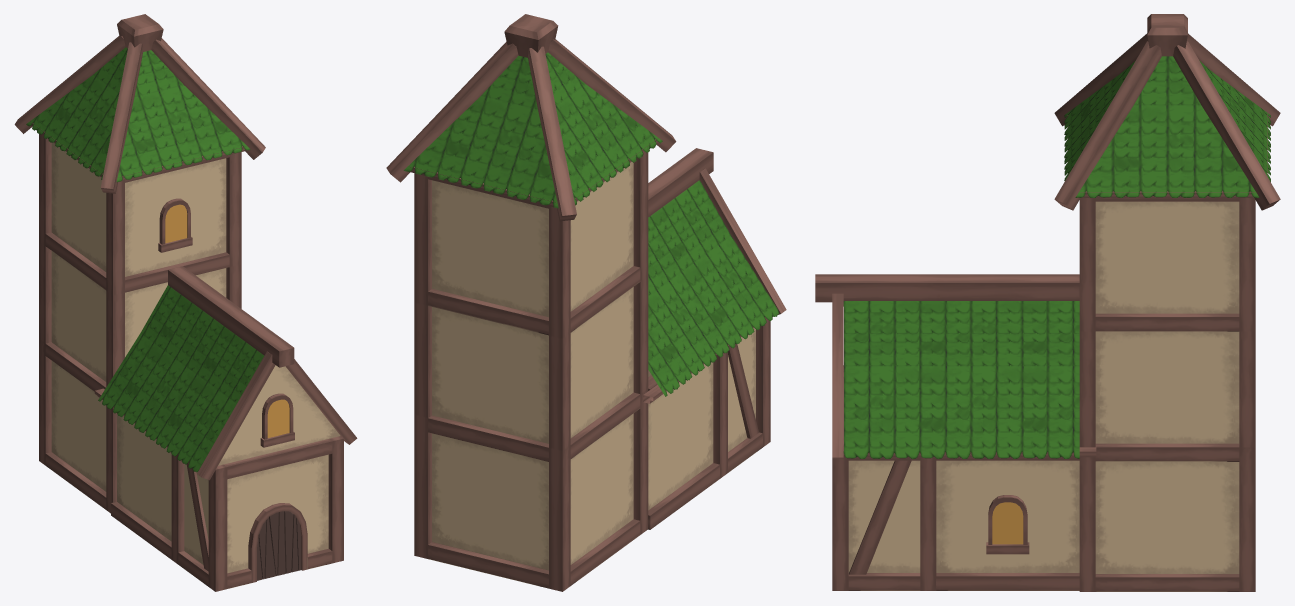
File: Medieval House Design_03.fbx
3 renders of one model, left to right at view 1: azimuth 30°, elevation 25°; view 2: azimuth 150°, elevation 25°; view 3: azimuth 270°, elevation 25°, orthographic. The views are drawn at different scales.
Visible parts, largest first — view 1: Cube.179; view 2: Cube.179; view 3: Cube.179.
Boxes of the visible parts, x1,y1,x2,y2 form: Cube.179: [14, 14, 357, 591]; Cube.179: [386, 14, 786, 591]; Cube.179: [815, 14, 1280, 591].
Size of the model in its own units: 315 by 820 by 648.
1 material, 1 textured.
